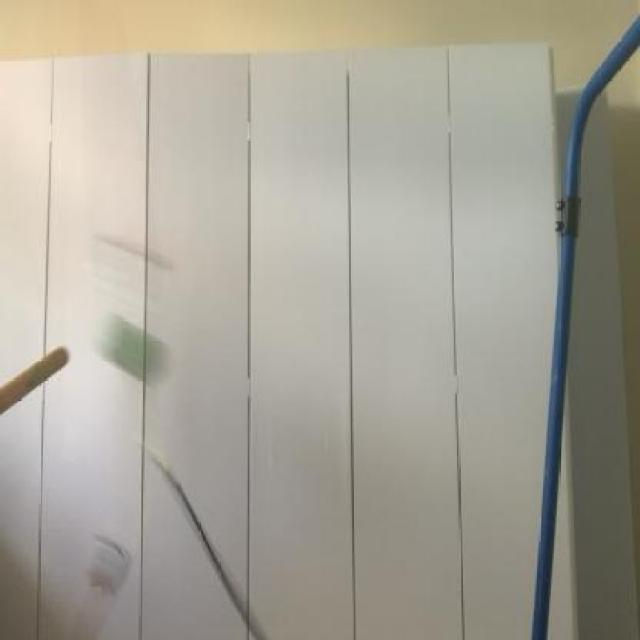baseball: (76, 302, 184, 408)
